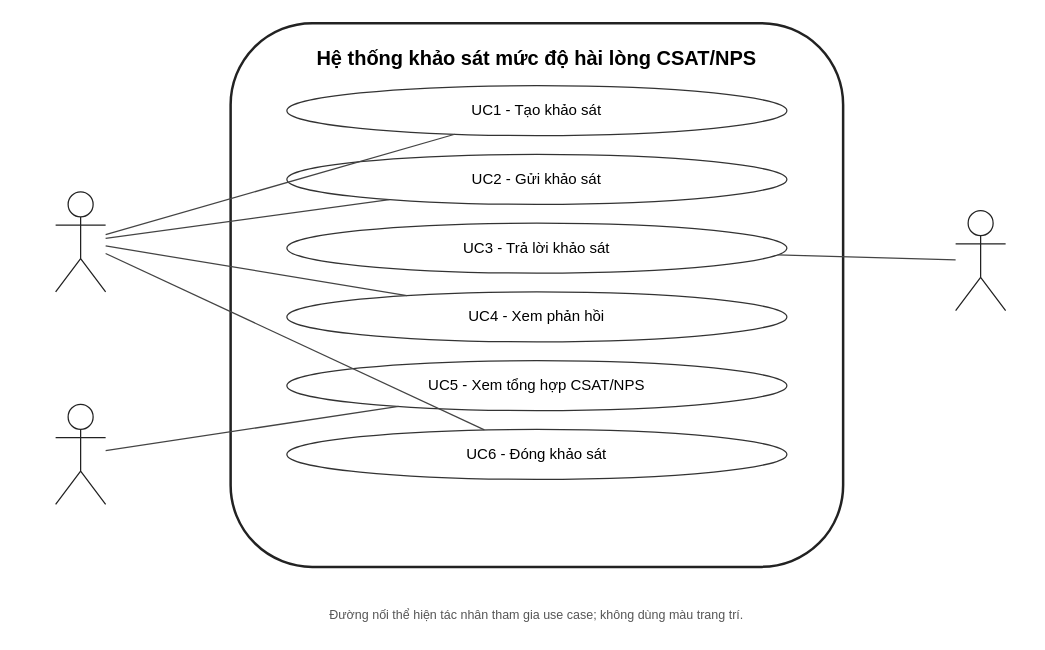
Some shapes in this 1045 by 650 pixel diagram are drawn without their labels. Here are the shapes that lost their labels. From the top down, the centre of each, then its label:
At point (80, 241): "Nhân viên CSKH".
At point (980, 260): "Khách hàng".
At point (80, 453): "Quản lý".
